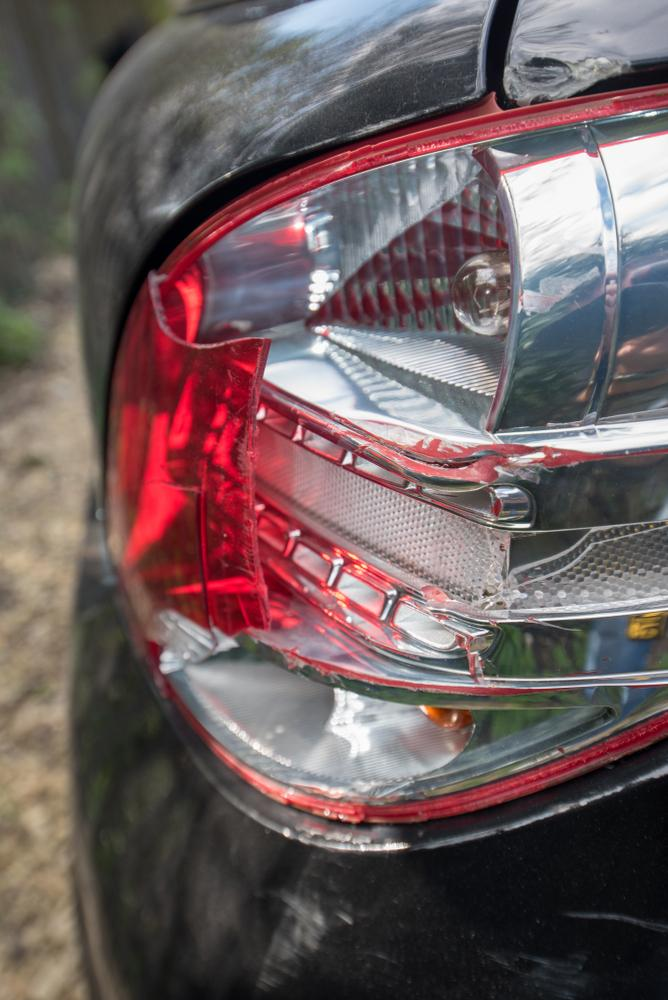dent: (506, 37, 626, 102)
lamp broken: (102, 76, 668, 824)
scratch: (474, 901, 668, 1000), (261, 853, 380, 999)
